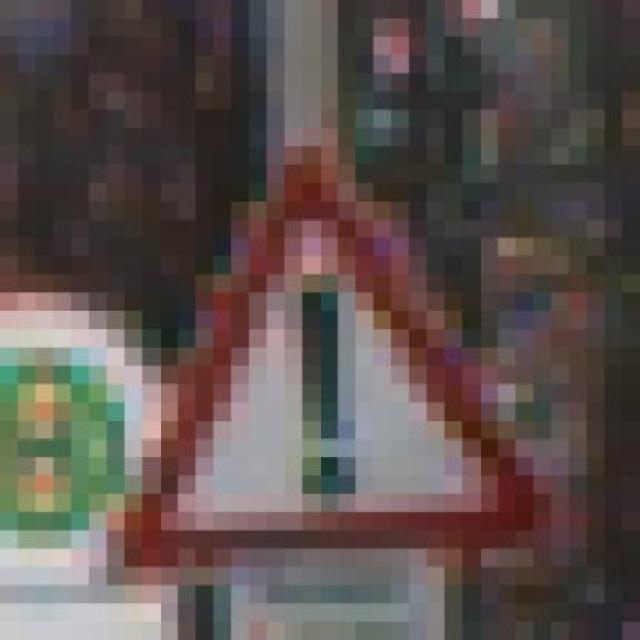Attention Please-: (53, 92, 569, 586)
